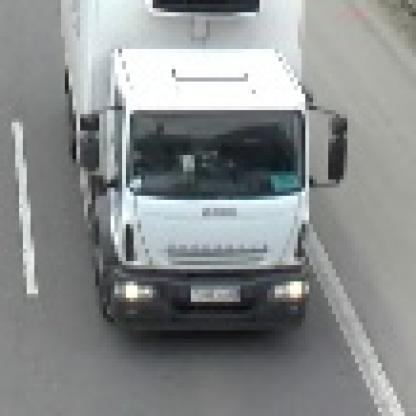truck: (58, 1, 344, 331)
